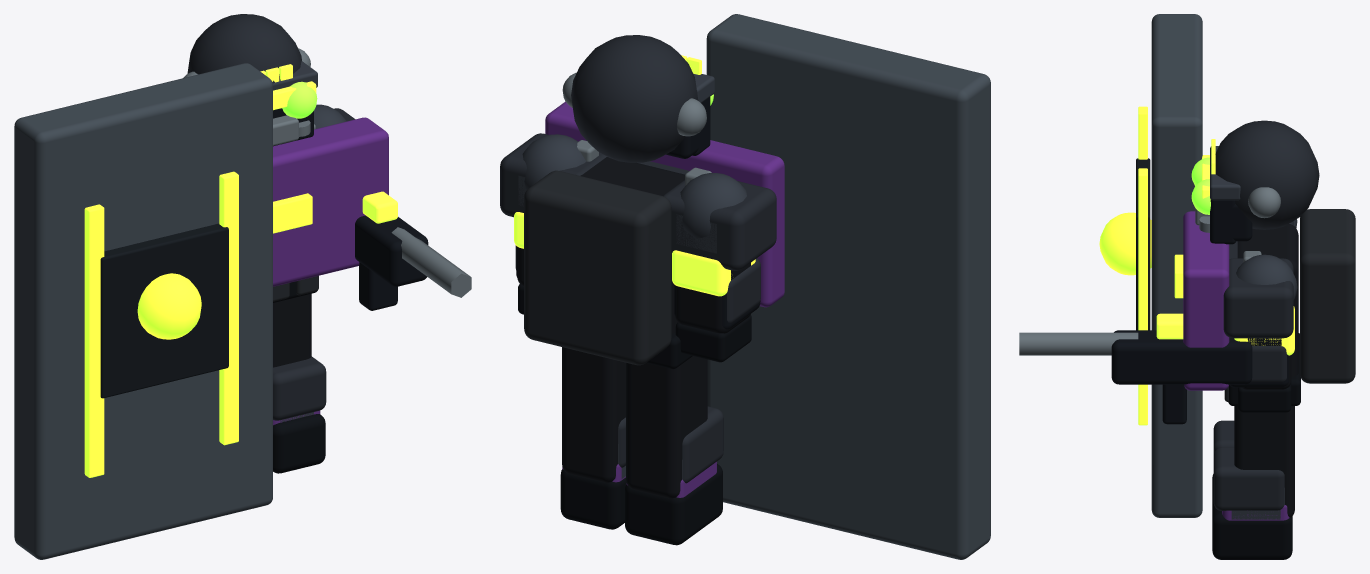
The model's file is guardian_l04.glb.
3 views of the same model, side by side, from view 1: azimuth 30°, elevation 25°; view 2: azimuth 150°, elevation 25°; view 3: azimuth 270°, elevation 25° (orthographic). The views are drawn at different scales.
Visible parts, largest first — view 1: barrier_body, barrier_centre, heavy_chest, barrier_power_strip (×2), rounded_helmet, barrier_core, heavy_carbine, shaped_knee_guard, boot, trouser, heavy_barrel, guardian_rank (+4 smaller); view 2: barrier_body, field_pack, trouser (×2), rounded_helmet, boot (×2), broad_shoulder_guard (×2), heavy_chest, shoulder_joint (×2), body, shaped_knee_guard, glove, rank_stripe (+5 smaller); view 3: barrier_body, field_pack, rounded_helmet, heavy_carbine, heavy_chest, broad_shoulder_guard, trouser, shaped_knee_guard (×2), boot, barrier_power_strip (×2), heavy_barrel, body (+16 smaller).
Part boxes in pixels (x1,y1,x2,y2): barrier_body: (14, 63, 272, 559); barrier_centre: (100, 223, 228, 398); heavy_chest: (273, 117, 388, 286); barrier_power_strip (×2): (84, 171, 238, 477); rounded_helmet: (187, 14, 301, 83); barrier_core: (137, 273, 201, 339); heavy_carbine: (355, 215, 428, 286); shaped_knee_guard: (273, 356, 326, 420); boot: (273, 414, 325, 473); trouser: (273, 293, 311, 367); heavy_barrel: (391, 227, 471, 297); guardian_rank: (273, 193, 312, 233); barrier_body: (706, 14, 990, 559); field_pack: (524, 170, 671, 365); trouser (×2): (562, 347, 707, 498); rounded_helmet: (571, 35, 698, 162); boot (×2): (560, 464, 722, 545); broad_shoulder_guard (×2): (500, 133, 776, 270); heavy_chest: (545, 101, 784, 307); shoulder_joint (×2): (522, 134, 746, 238); body: (580, 157, 684, 334); shaped_knee_guard: (682, 406, 723, 483); glove: (675, 315, 751, 362); rank_stripe: (672, 250, 755, 296); barrier_body: (1151, 14, 1202, 517); field_pack: (1300, 209, 1355, 383); rounded_helmet: (1211, 120, 1319, 229); heavy_carbine: (1111, 330, 1252, 384); heavy_chest: (1183, 211, 1229, 390); broad_shoulder_guard: (1223, 258, 1293, 338); trouser: (1234, 406, 1294, 517); shaped_knee_guard (×2): (1213, 420, 1284, 510); boot: (1212, 500, 1292, 559); barrier_power_strip (×2): (1138, 106, 1147, 425); heavy_barrel: (1019, 332, 1138, 355); body: (1237, 224, 1298, 377).
Size of the model in its own units: 1.68 by 1.87 by 1.39.
